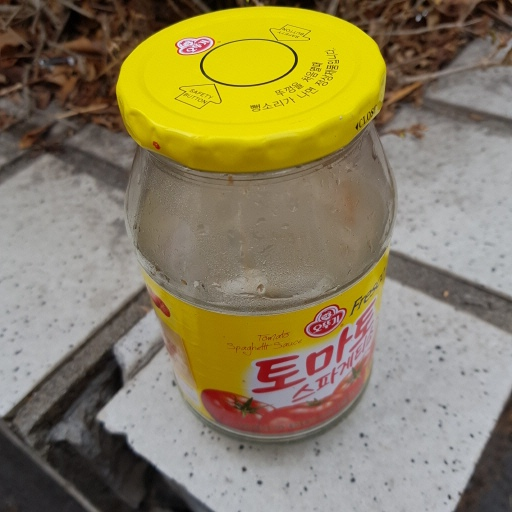Glass_5: (115, 7, 400, 444)
